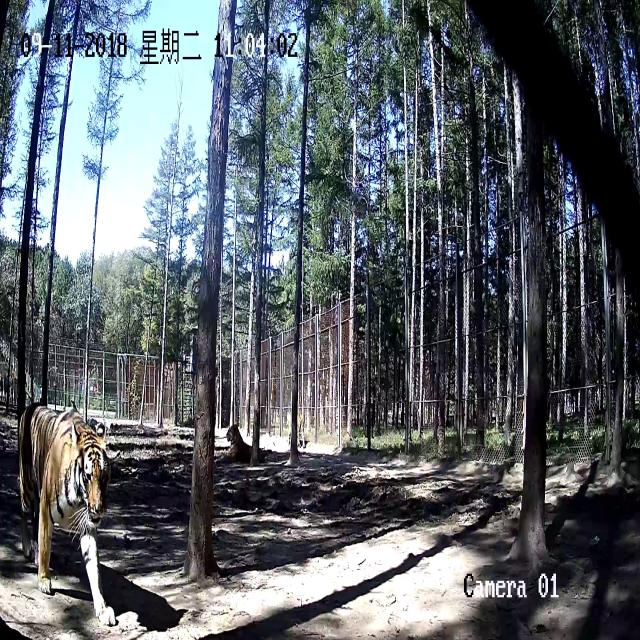Tiger: (16, 390, 128, 630), (207, 415, 276, 476), (283, 409, 311, 458)
